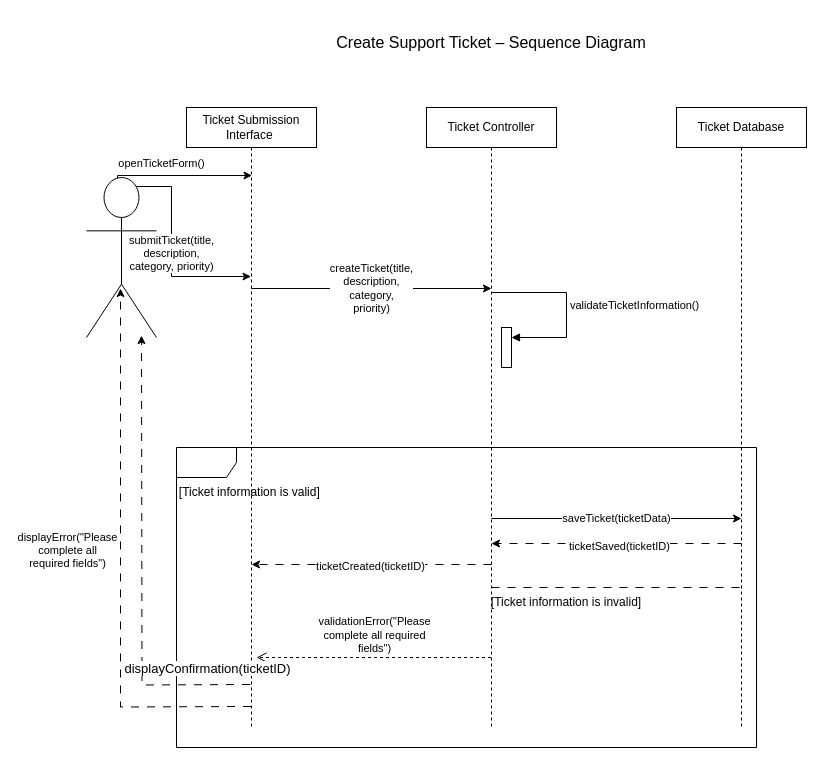
Image size: 824x765. Some labels were removed from this diagram. Here are the shapes that lost their labels. From the top down, the box of each, then its label:
(86, 176, 156, 338): Employee
(176, 446, 756, 748): alt
